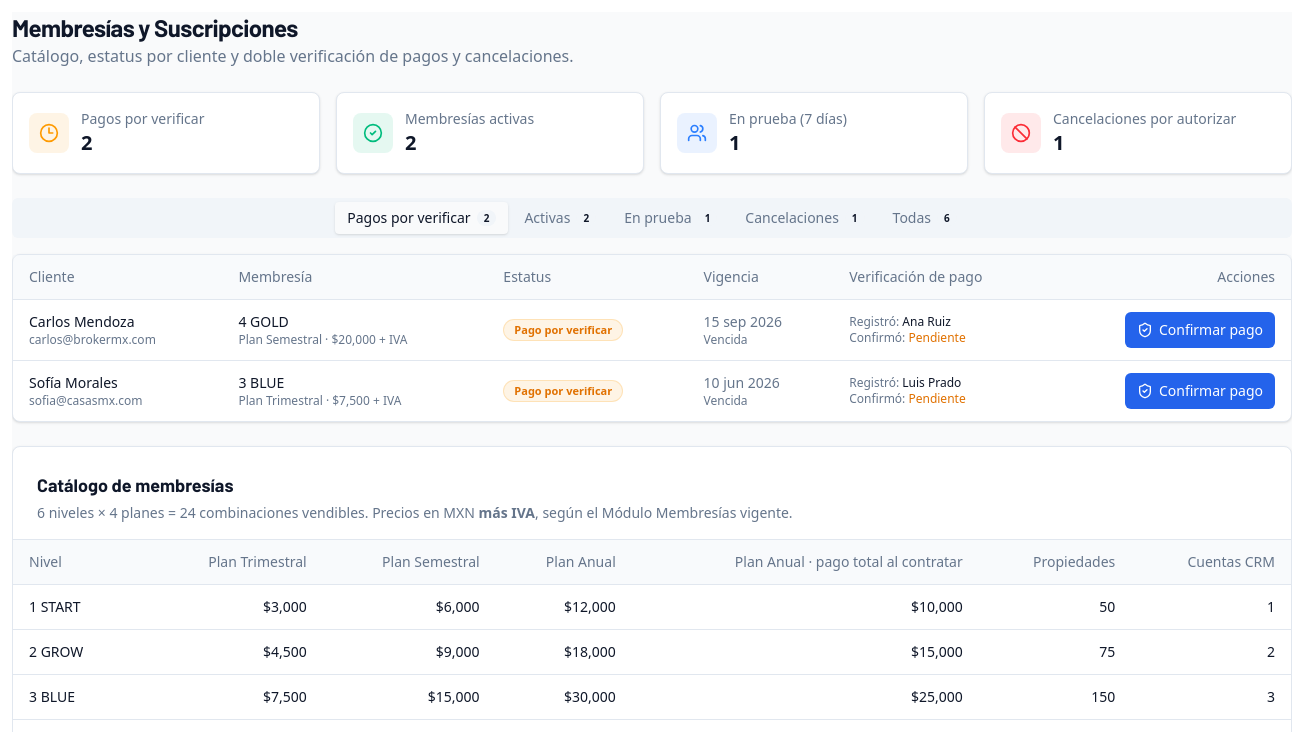
Scenario: <AdminMembresiasPage /> › un segundo administrador sí activa la membresía y queda registrado
Click the button "Confirmar pago" in the row of "Sofía Morales". click: (1200, 391)
box: [1125,373,1275,409]
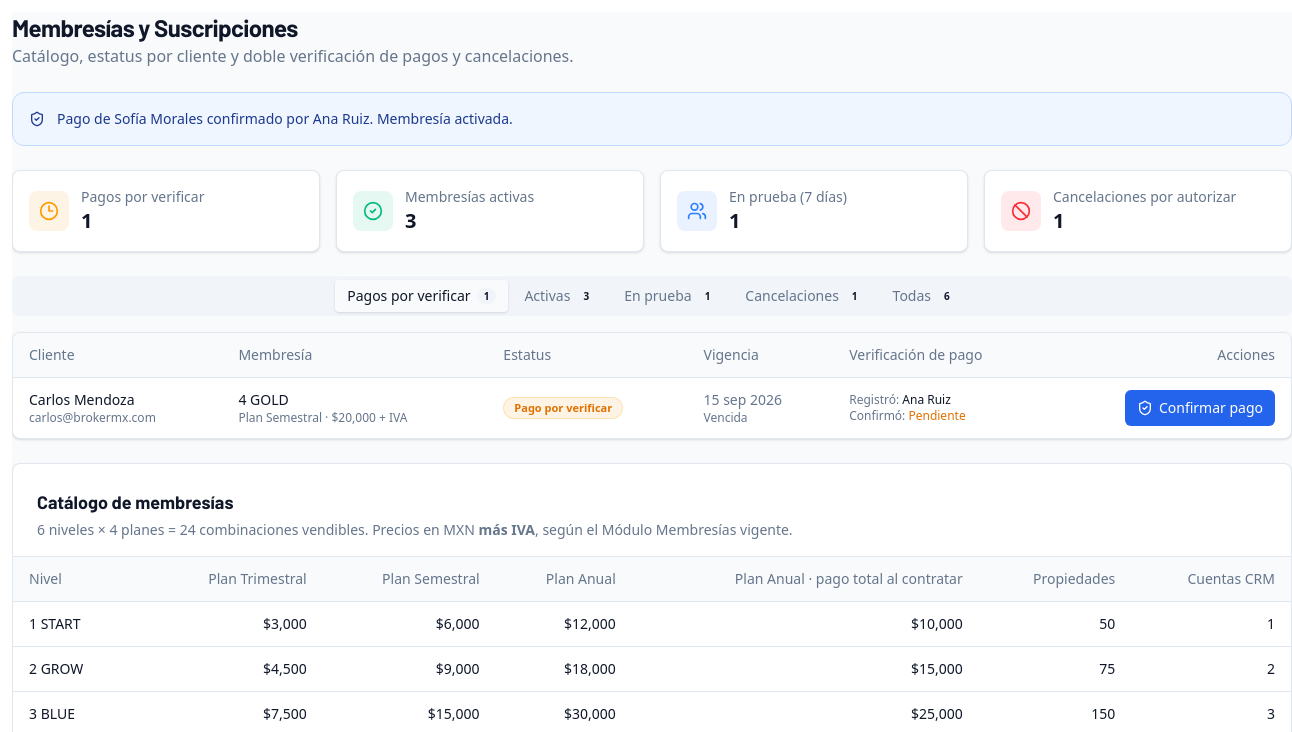
Check: the message shows "confirmado por Ana Ruiz", box [57,109,513,128]
Click the tab "Activas 3". click: (560, 296)
box: [512,280,608,312]
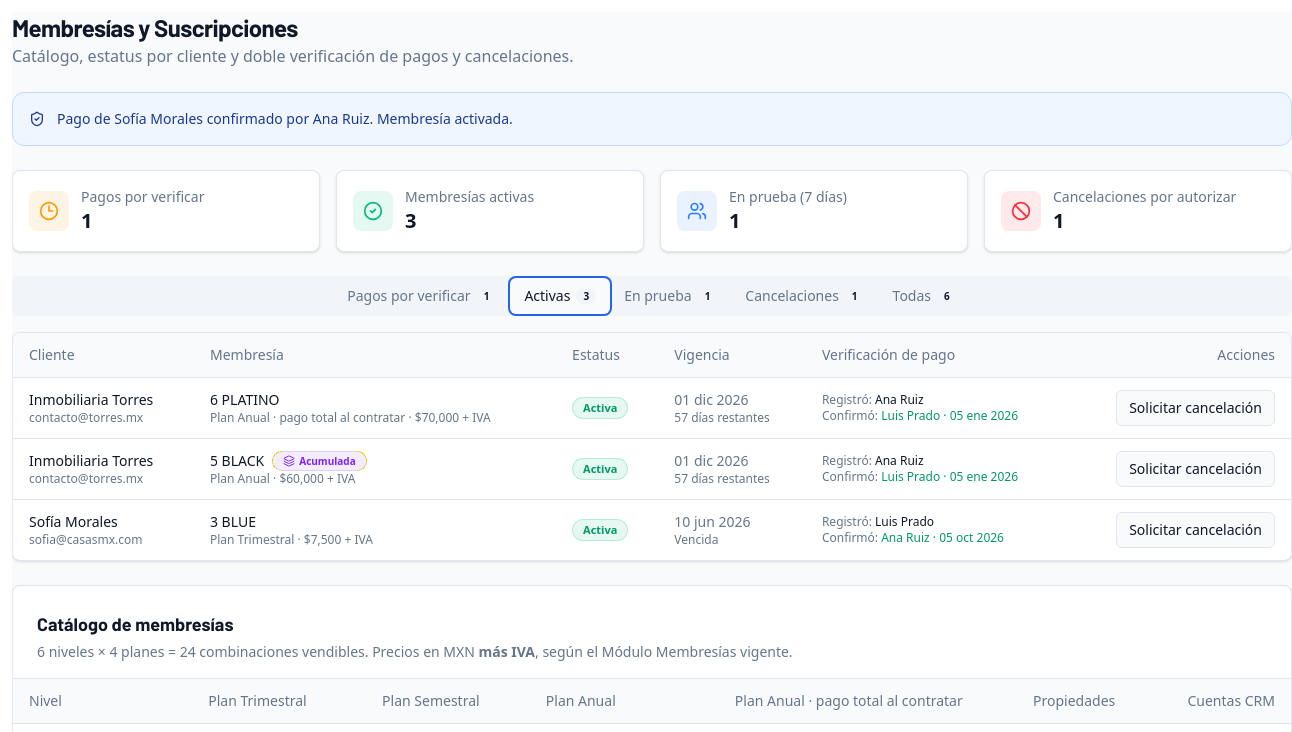
Check: the text "Activa" in the row of "sofia@casasmx.com" is shown, box [583,522,617,537]
